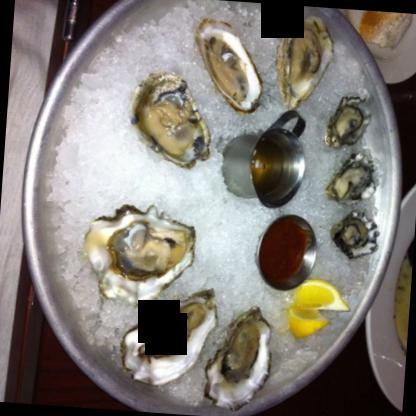oyster: (116, 278, 218, 390), (78, 209, 194, 307), (136, 69, 212, 170), (204, 300, 271, 412), (192, 23, 267, 107), (278, 20, 335, 108), (328, 153, 378, 204), (329, 96, 376, 148), (332, 211, 381, 258)
